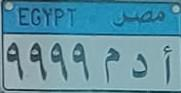9: (70, 38, 93, 85), (47, 41, 68, 83), (27, 39, 47, 80), (8, 39, 22, 82)
أ: (160, 42, 178, 86)
د: (127, 44, 148, 81)
م: (102, 43, 123, 82)
